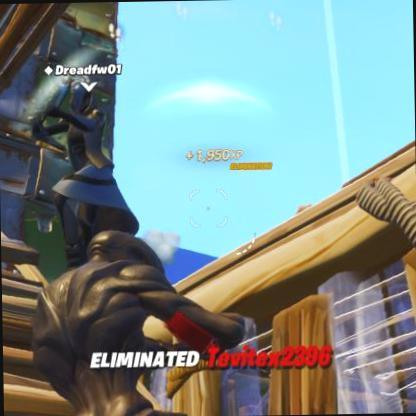person: (62, 76, 112, 259)
